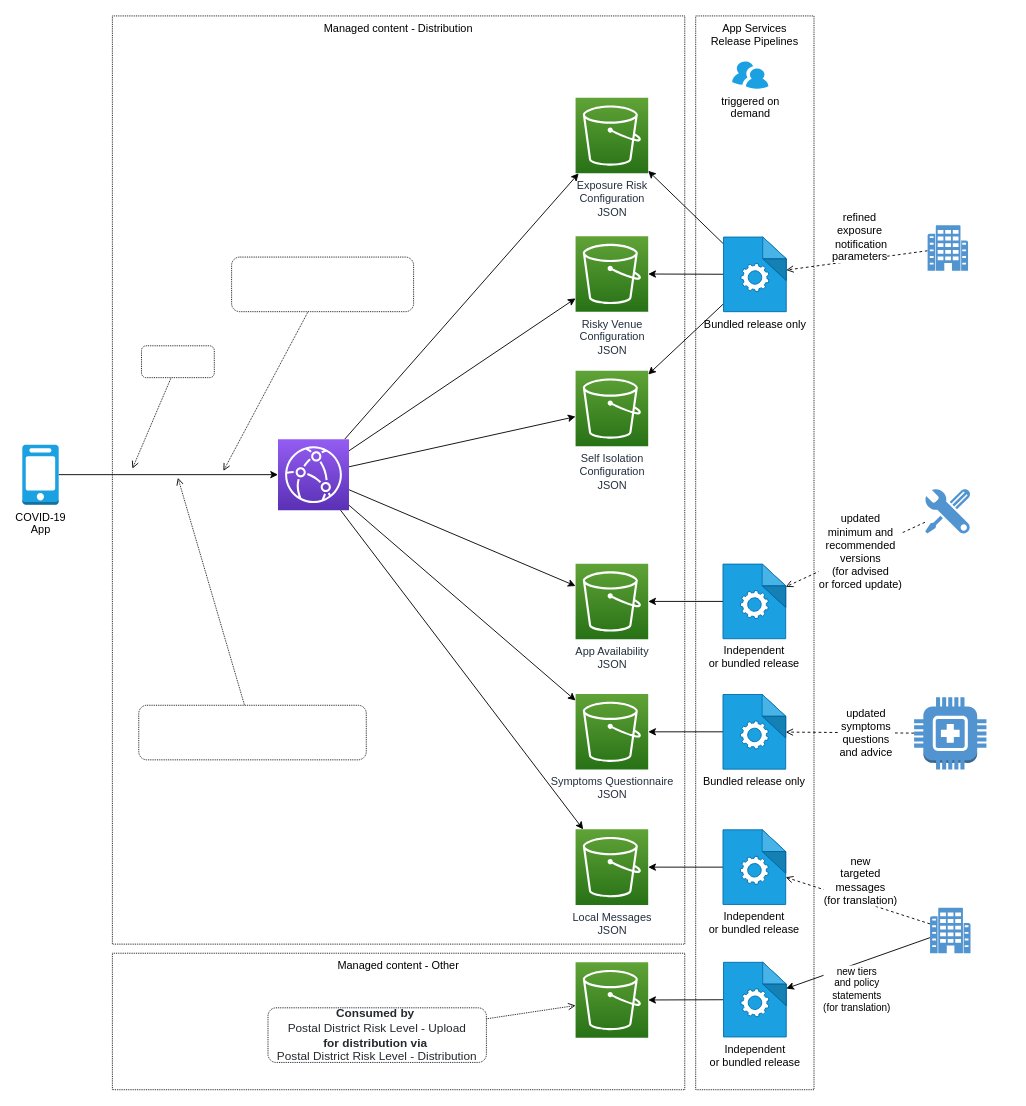
Image size: 1026x1106. Some labels were removed from this diagram. The shapes that lost their labels are listed below. From the top down, each one's centre as x and y in pixels, then its label:
pixel 947 247: Public Health Authorities
pixel 322 284: No Authentication Not required for distribution APIs
pixel 177 361: HTTPS GET
pixel 313 474: Distribution CloudFront CDN
pixel 947 511: Product Development Team
pixel 252 732: Digitally Signed The response payload is digitally signed
pixel 949 733: Clinical Advisors Public Health Authorities
pixel 950 930: Local Authorities Public Health Authorities
pixel 611 999: Tier Metadata JSON
